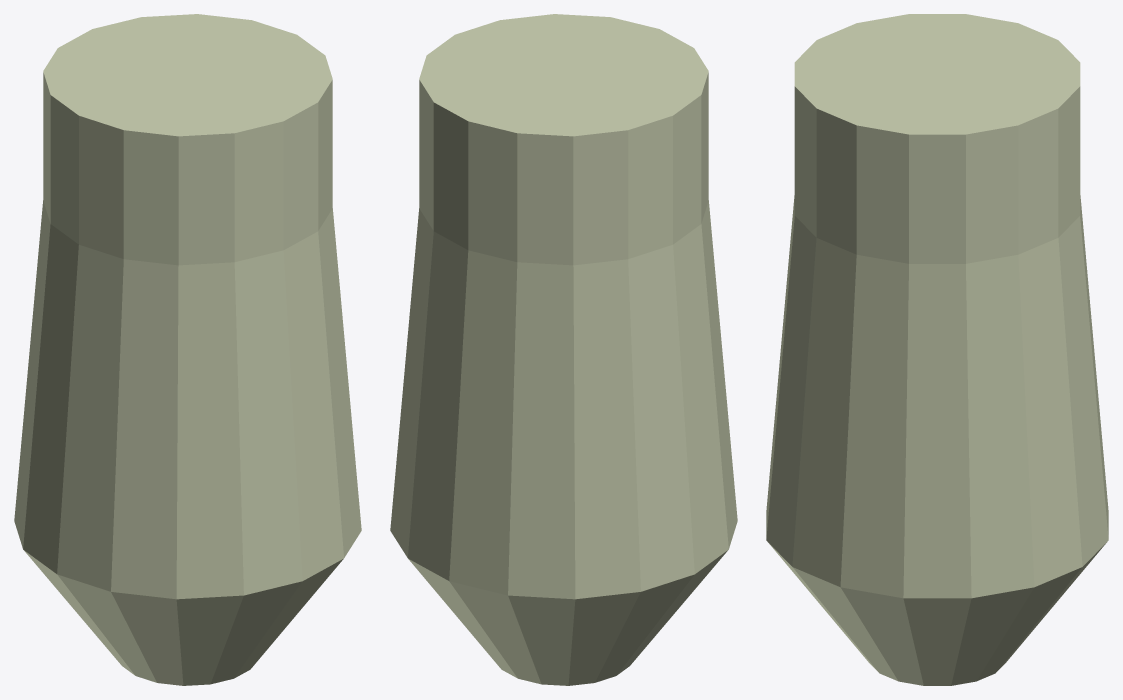
The model's file is LLV_B_Engine_1_Collider.obj.
The picture shows the model from 3 angles, left to right: view 1: azimuth 30°, elevation 25°; view 2: azimuth 150°, elevation 25°; view 3: azimuth 270°, elevation 25°; orthographic projection.
Visible parts, largest first — view 1: LLV_B_Engine_1_Collider2, LLV_B_Engine_1_Collider1; view 2: LLV_B_Engine_1_Collider2, LLV_B_Engine_1_Collider1; view 3: LLV_B_Engine_1_Collider2, LLV_B_Engine_1_Collider1.
Part boxes in pixels (x1=…): LLV_B_Engine_1_Collider2: x1=14, y1=200, x2=361, y2=685; LLV_B_Engine_1_Collider1: x1=43, y1=14, x2=332, y2=265; LLV_B_Engine_1_Collider2: x1=390, y1=200, x2=737, y2=685; LLV_B_Engine_1_Collider1: x1=419, y1=14, x2=708, y2=265; LLV_B_Engine_1_Collider2: x1=766, y1=195, x2=1108, y2=685; LLV_B_Engine_1_Collider1: x1=794, y1=14, x2=1080, y2=263.
Bounding box in the file's own units: 4.5 × 8.45 × 4.5.
